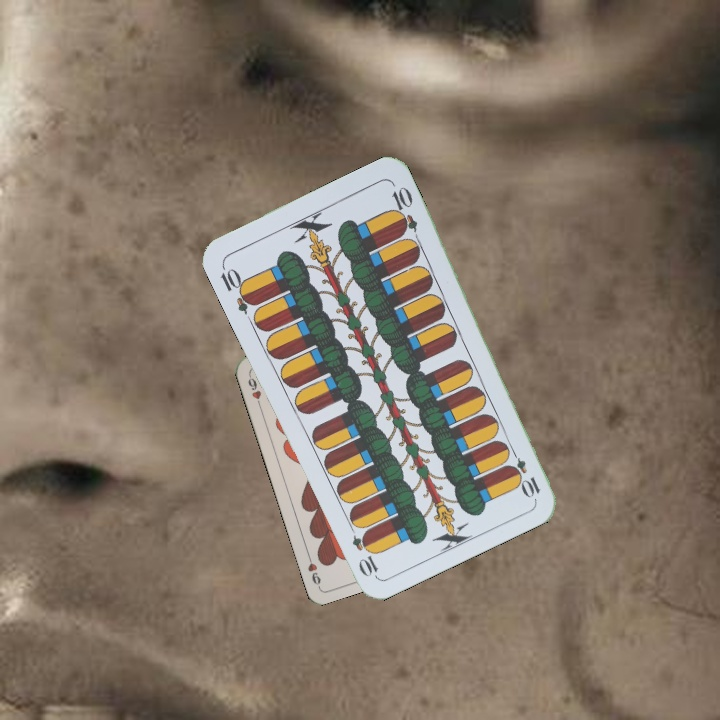E10: (216, 260, 259, 316), (505, 444, 543, 500)
H9: (244, 370, 264, 410)
